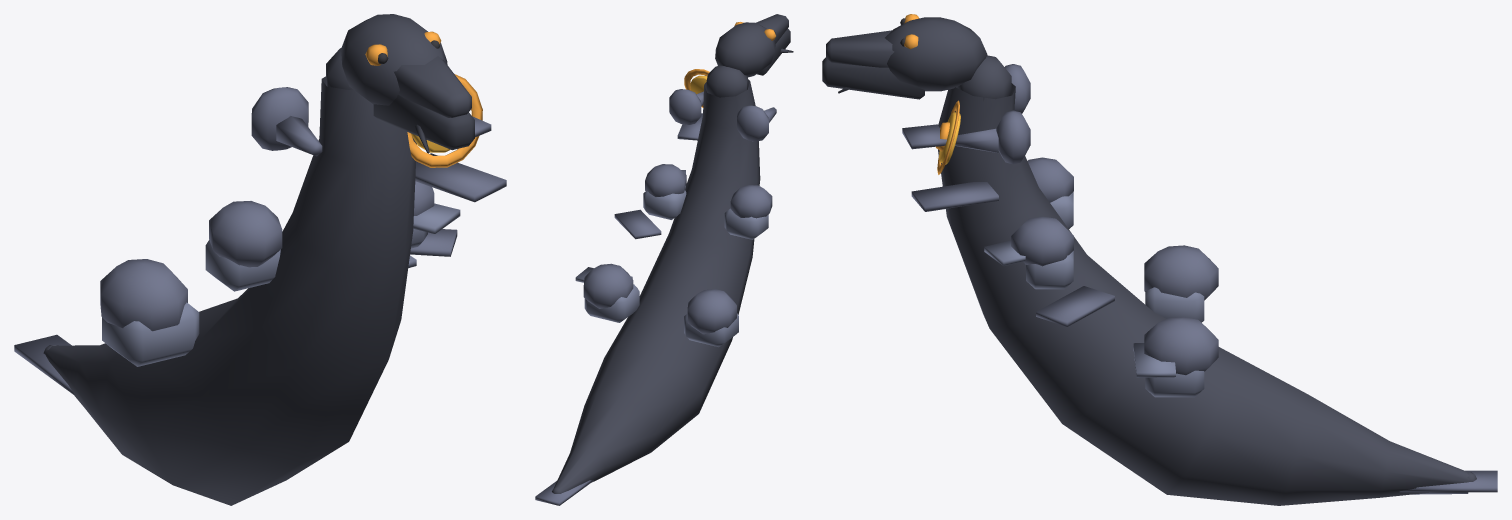
Rendered from riptide_eel.glb.
3 renders of one model, left to right at view 1: azimuth 30°, elevation 25°; view 2: azimuth 150°, elevation 25°; view 3: azimuth 270°, elevation 25°, orthographic. The views are drawn at different scales.
Parts seen in each view (by area): view 1: RiptideEel; view 2: RiptideEel; view 3: RiptideEel.
Boxes of the visible parts, x1,y1,x2,y2 form: RiptideEel: [14, 14, 506, 505]; RiptideEel: [535, 14, 793, 505]; RiptideEel: [822, 14, 1497, 505].
Size of the model in its own units: 1.48 by 3 by 3.83.
Materials: 1 (1 with a texture image).
